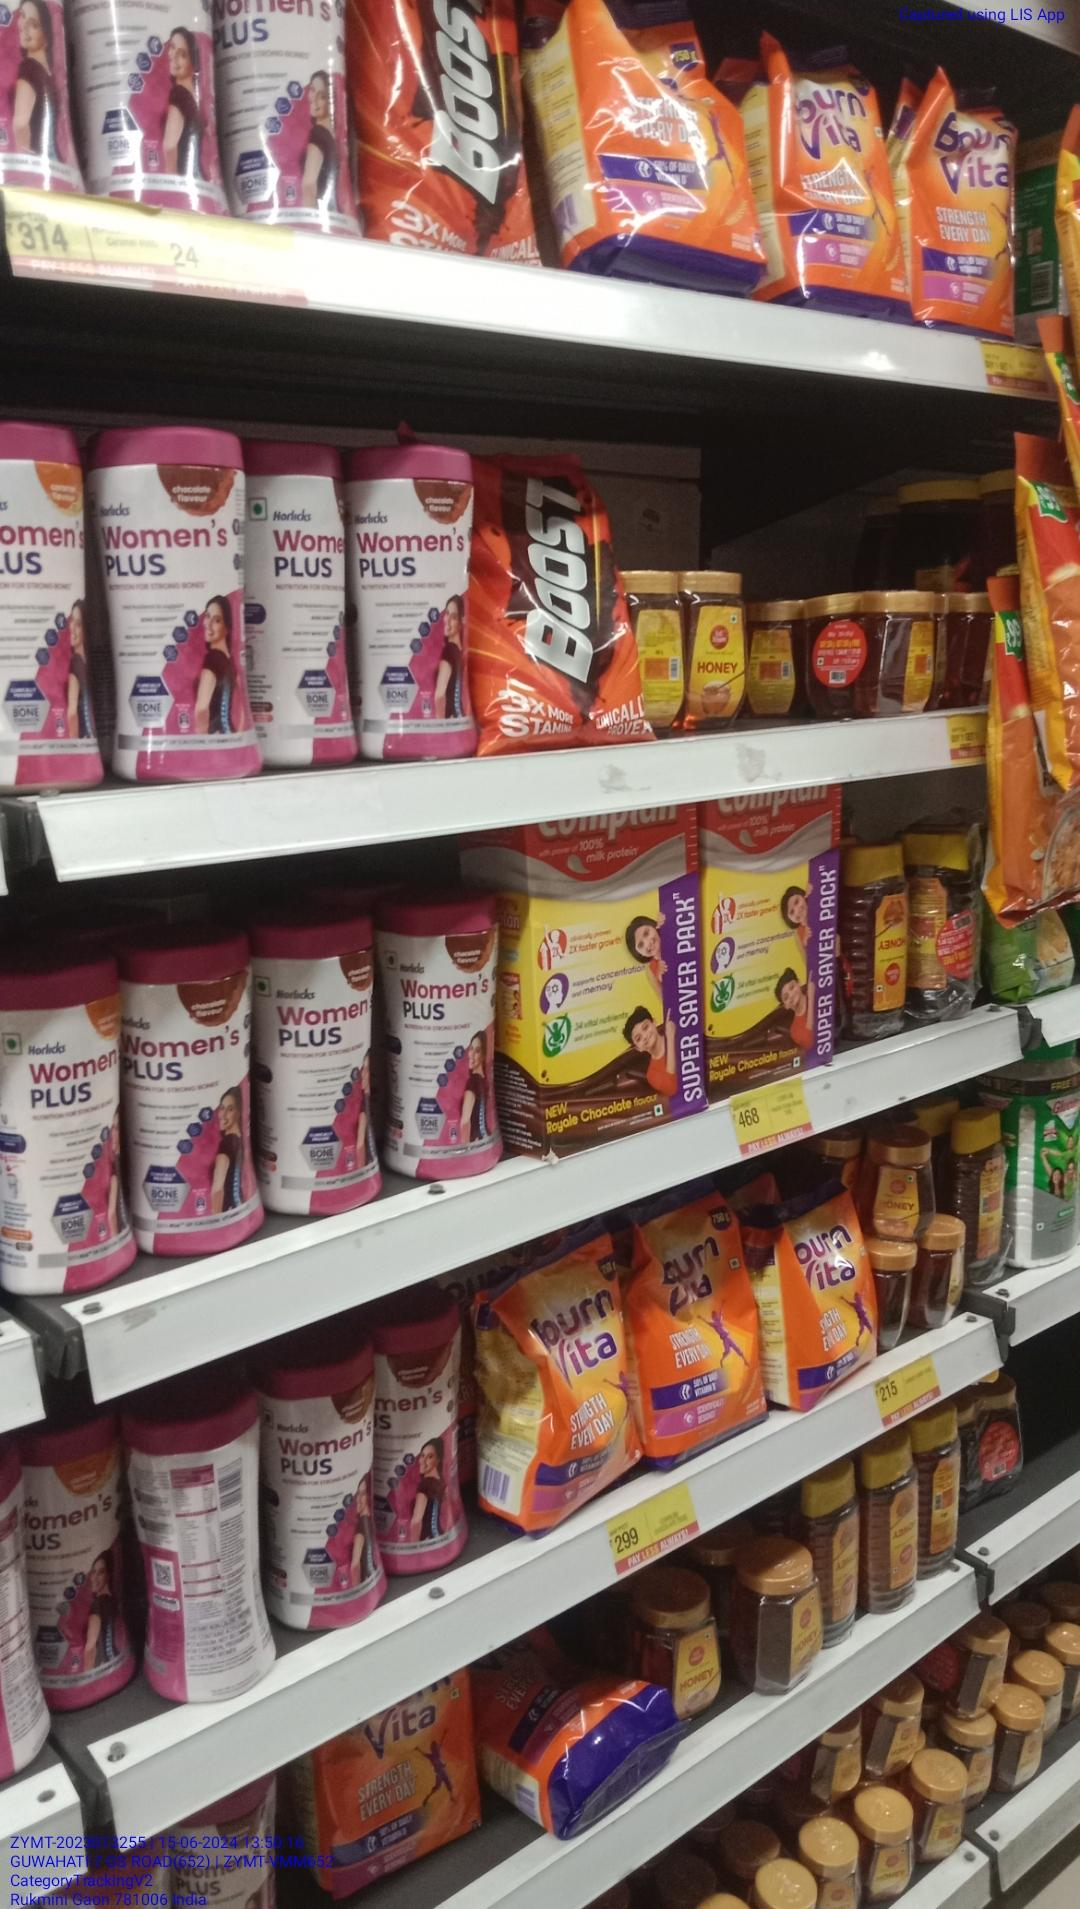BOURN_VITA_500_G_POUCH: (777, 1192, 876, 1387)
BOURN_VITA_750_G_POUCH: (548, 0, 741, 278), (759, 45, 906, 308), (494, 1267, 636, 1503), (647, 1213, 763, 1457), (917, 68, 1018, 338)
COMPLAN_CHOCOLATE_1_KG_PACK: (526, 830, 696, 1114), (708, 800, 832, 1063)
